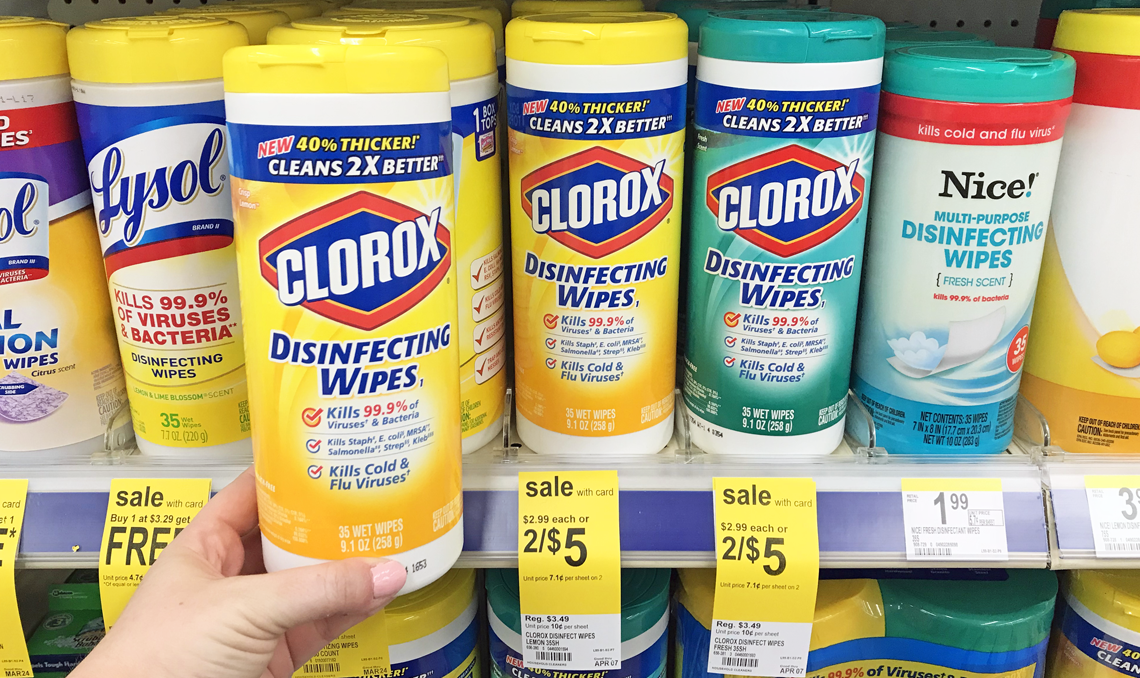Wipes: (216, 37, 480, 603), (259, 7, 509, 463), (845, 19, 1082, 466), (690, 7, 889, 475), (59, 6, 258, 473), (497, 4, 691, 470), (1, 1, 139, 482), (1009, 1, 1140, 473), (678, 561, 877, 678), (480, 564, 677, 678), (882, 565, 1066, 678), (310, 1, 512, 81), (1057, 566, 1140, 676)
